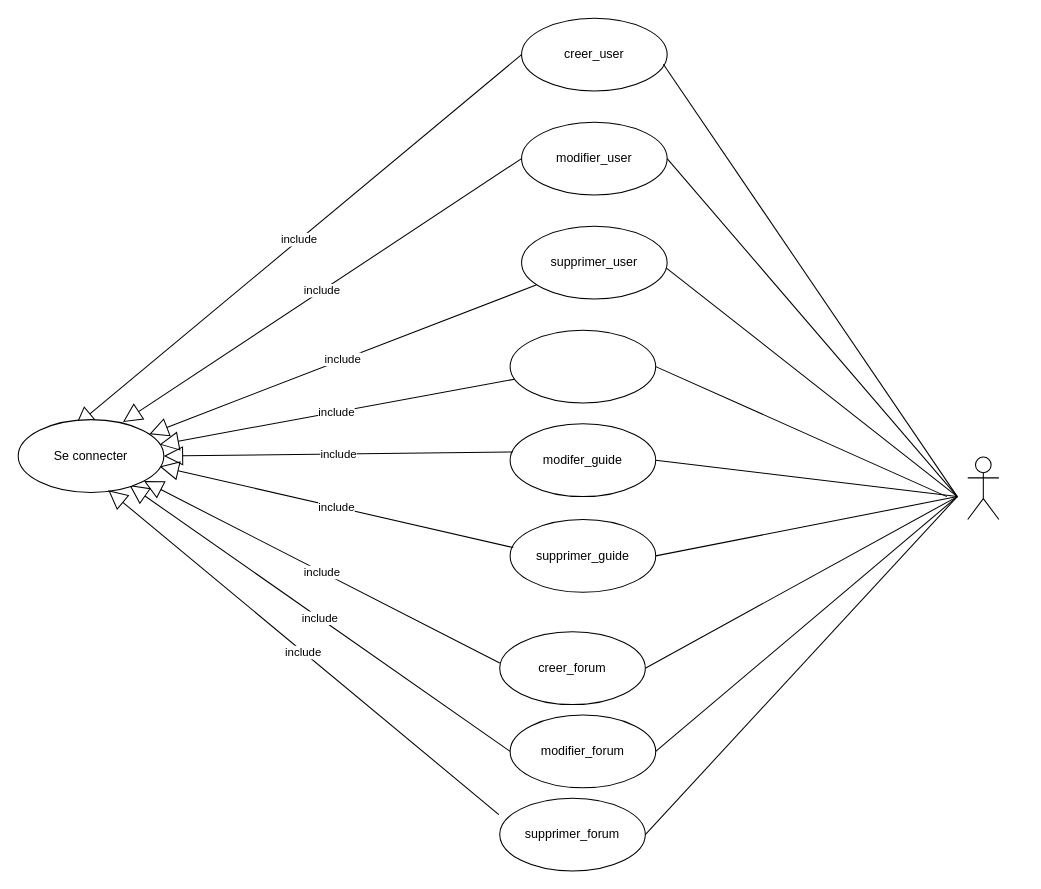
The diagram is 1041 pixels wide and 889 high, and some of its shapes have lost their labels. The centre of each missing label's shape, as x and y in pixels:
"Administrateur" belongs at (x=983, y=487).
"creer_guide" belongs at (x=582, y=366).
